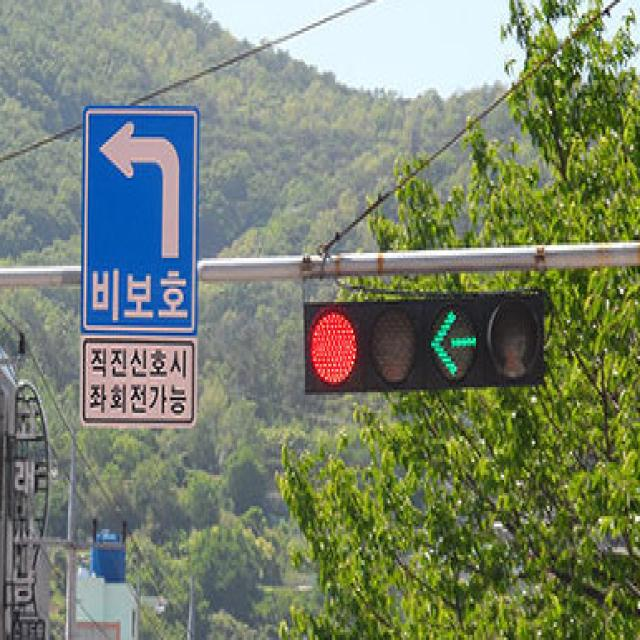Red Light: (305, 302, 362, 392)
